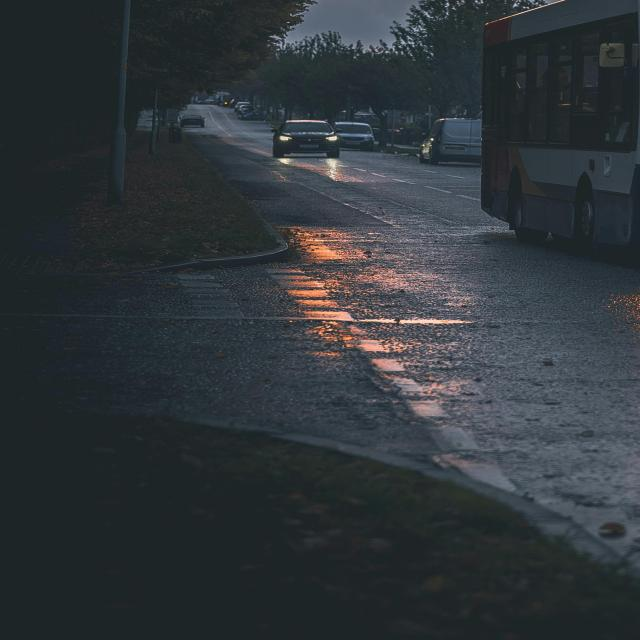bus: (482, 0, 640, 258)
car: (418, 117, 486, 165), (271, 120, 340, 157), (332, 120, 375, 152), (179, 114, 205, 127)
